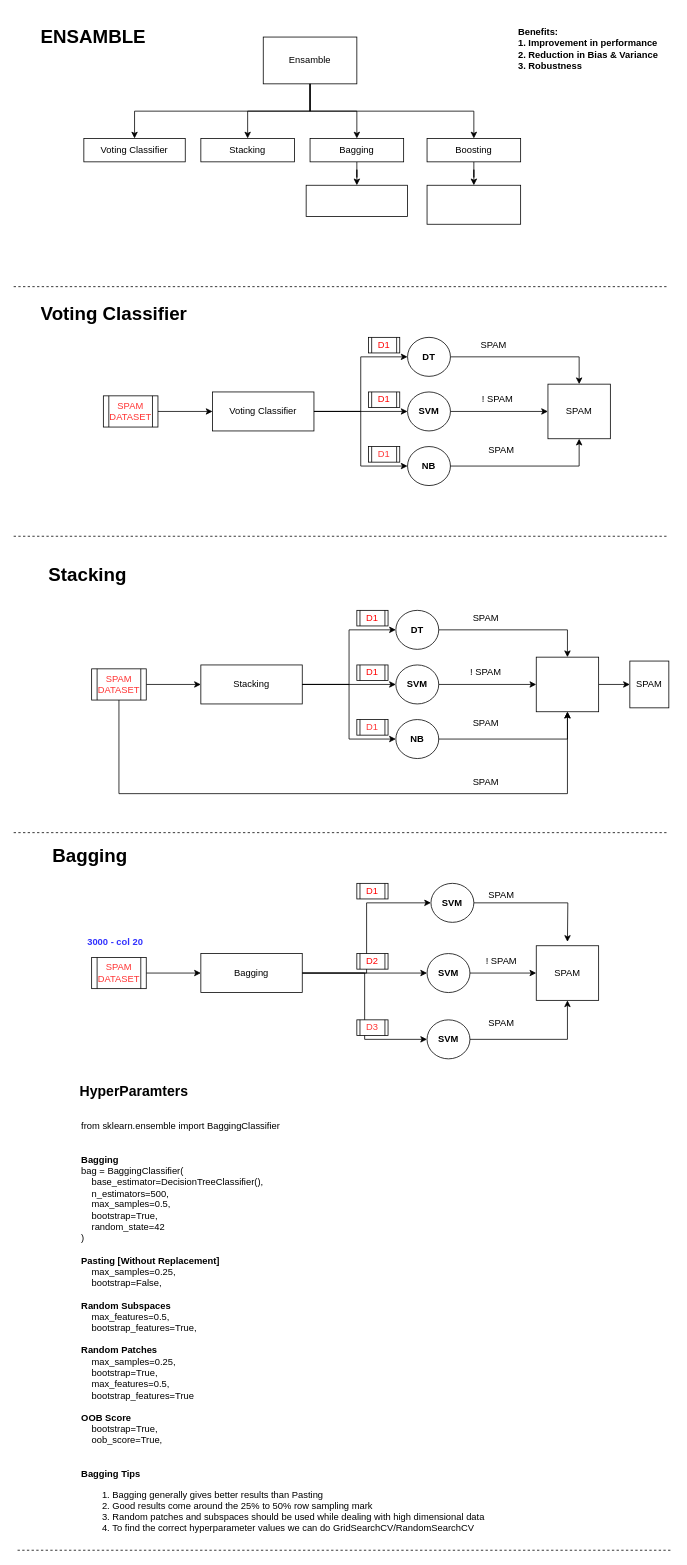
Some shapes in this 687 by 1565 pixel diagram are drawn without their labels. The centre of each missing label's shape, as x and y in pixels:
"Adaboost Gradient Boost XGBoost" belongs at (x=473, y=204).
"KNN" belongs at (x=567, y=684).
"Random Forrest" belongs at (x=356, y=200).
